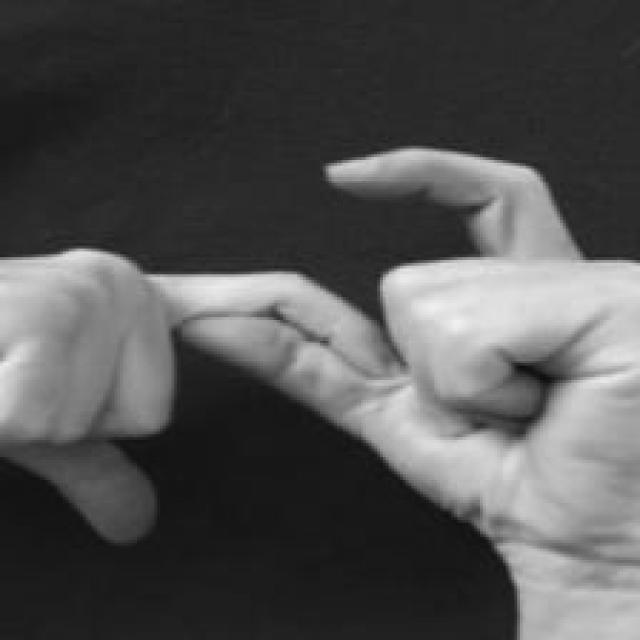S: (0, 138, 640, 640)
